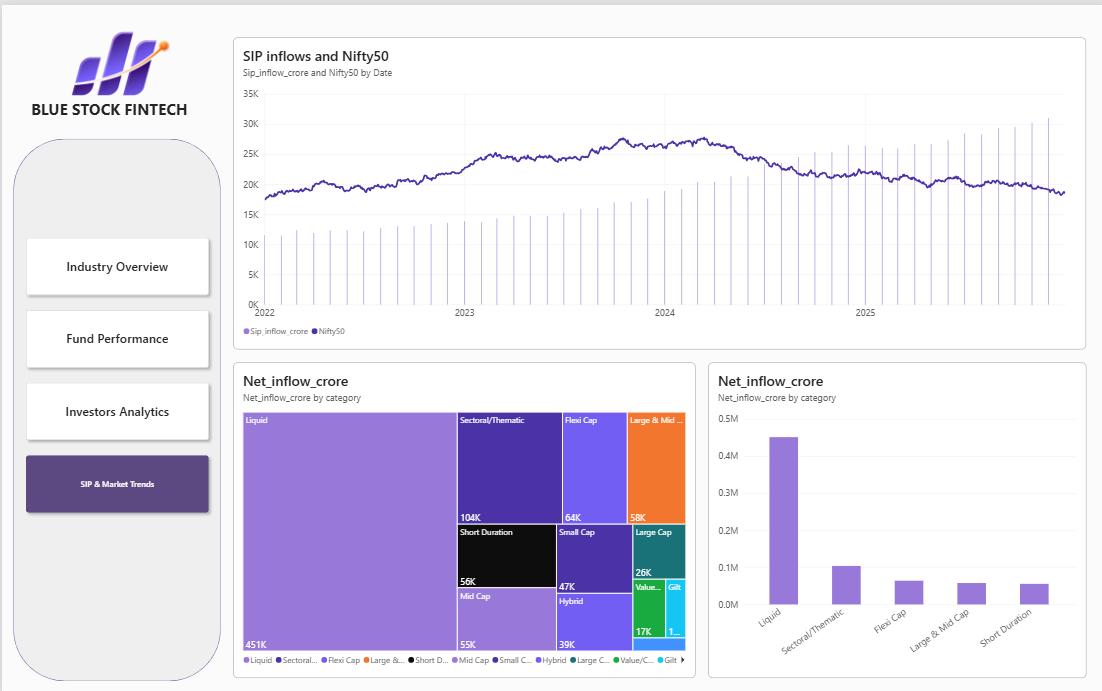

The dashboard page shown, as its layout file describes it:
{"tool":"powerbi","page":{"name":"SIP & Market Trends","canvas":[1920,1200],"ordinal":3},"visuals":[{"type":"image","box":[0,0,404.3,204.3],"z":0,"group":"g1"},{"type":"treemap","title":"Net_inflow_crore","fields":{"Group":["category_inflows.category"],"Values":["Sum(category_inflows.net_inflow_crore)"]},"box":[402.1,621.3,804.3,548.9],"z":0},{"type":"lineClusteredColumnComboChart","title":"SIP inflows and Nifty50","fields":{"Category":["dim_date.Date"],"Y":["Sum(monthly_sip_inflows.sip_inflow_crore)"],"Y2":["_Measures.Nifty50"]},"box":[402.1,57.4,1483,542.6],"z":1000},{"type":"textbox","box":[19.6,163,334.8,52.2],"z":1000,"group":"g1"},{"type":"clusteredColumnChart","title":"Net_inflow_crore","fields":{"Category":["category_inflows.category"],"Y":["Sum(category_inflows.net_inflow_crore)"]},"box":[1227.7,621.3,657.4,548.9],"z":2000},{"type":"group","id":"g1","title":"Group 1","box":[0,0,404.3,215.2],"z":3000},{"type":"shape","box":[19.6,232.6,360.9,943.5],"z":3001},{"type":"pageNavigator","box":[32.6,395.7,337,497.8],"z":3002}]}

Visuals, with their boxes in screenshot pixels (x1, y1, x2, y2), scaled from the page's 1920x1200 canvas onto the 1102x691 screenshot:
image: [left=0, top=0, right=232, bottom=118]
"Net_inflow_crore" treemap: [left=231, top=358, right=692, bottom=674]
"SIP inflows and Nifty50" lineClusteredColumnComboChart: [left=231, top=33, right=1082, bottom=346]
textbox: [left=11, top=94, right=203, bottom=124]
"Net_inflow_crore" clusteredColumnChart: [left=705, top=358, right=1082, bottom=674]
"Group 1" group: [left=0, top=0, right=232, bottom=124]
shape: [left=11, top=134, right=218, bottom=677]
pageNavigator: [left=19, top=228, right=212, bottom=515]
